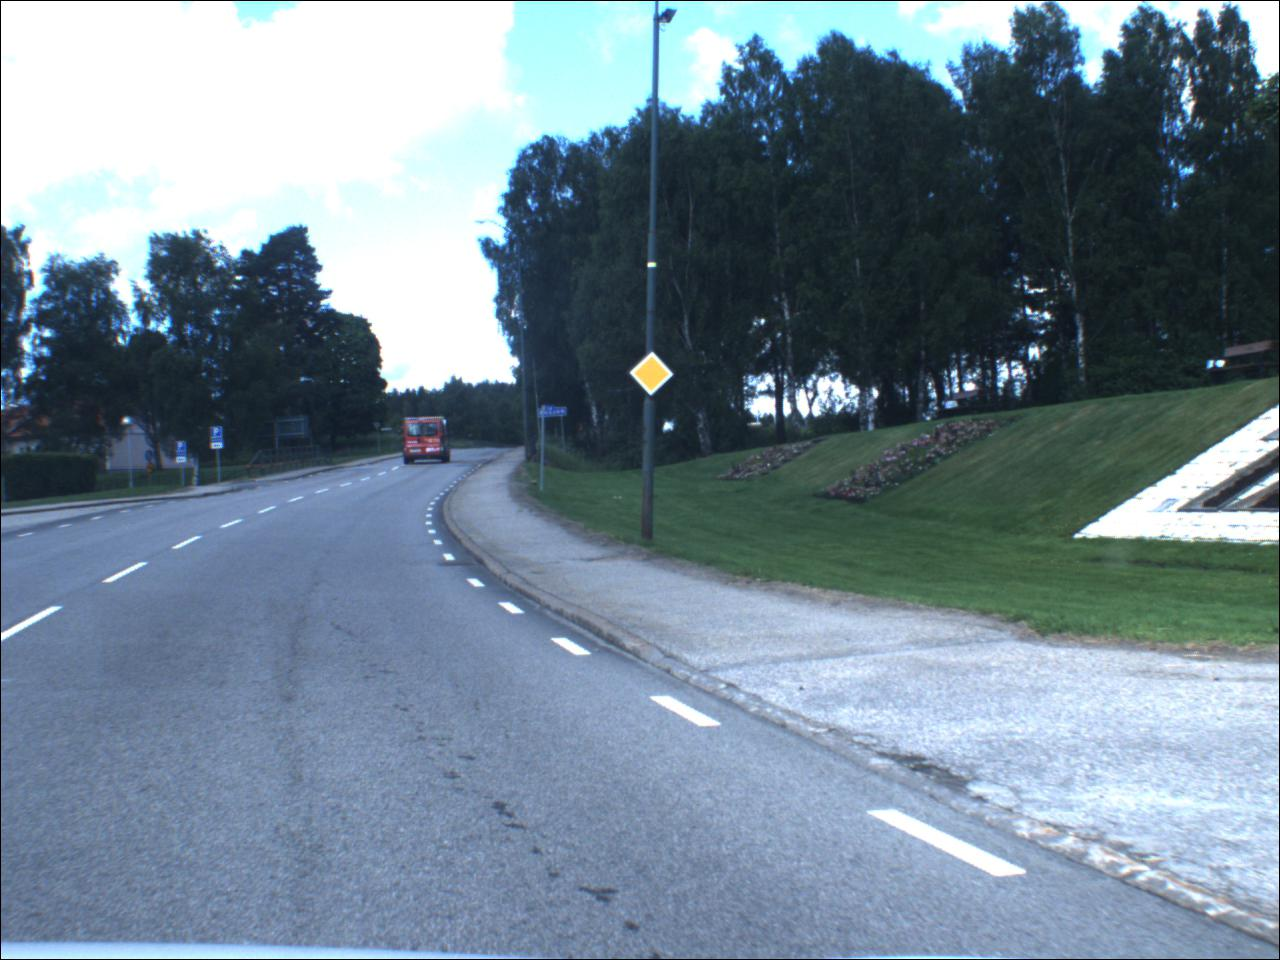PRIORITY_ROAD: (629, 353, 679, 399)
